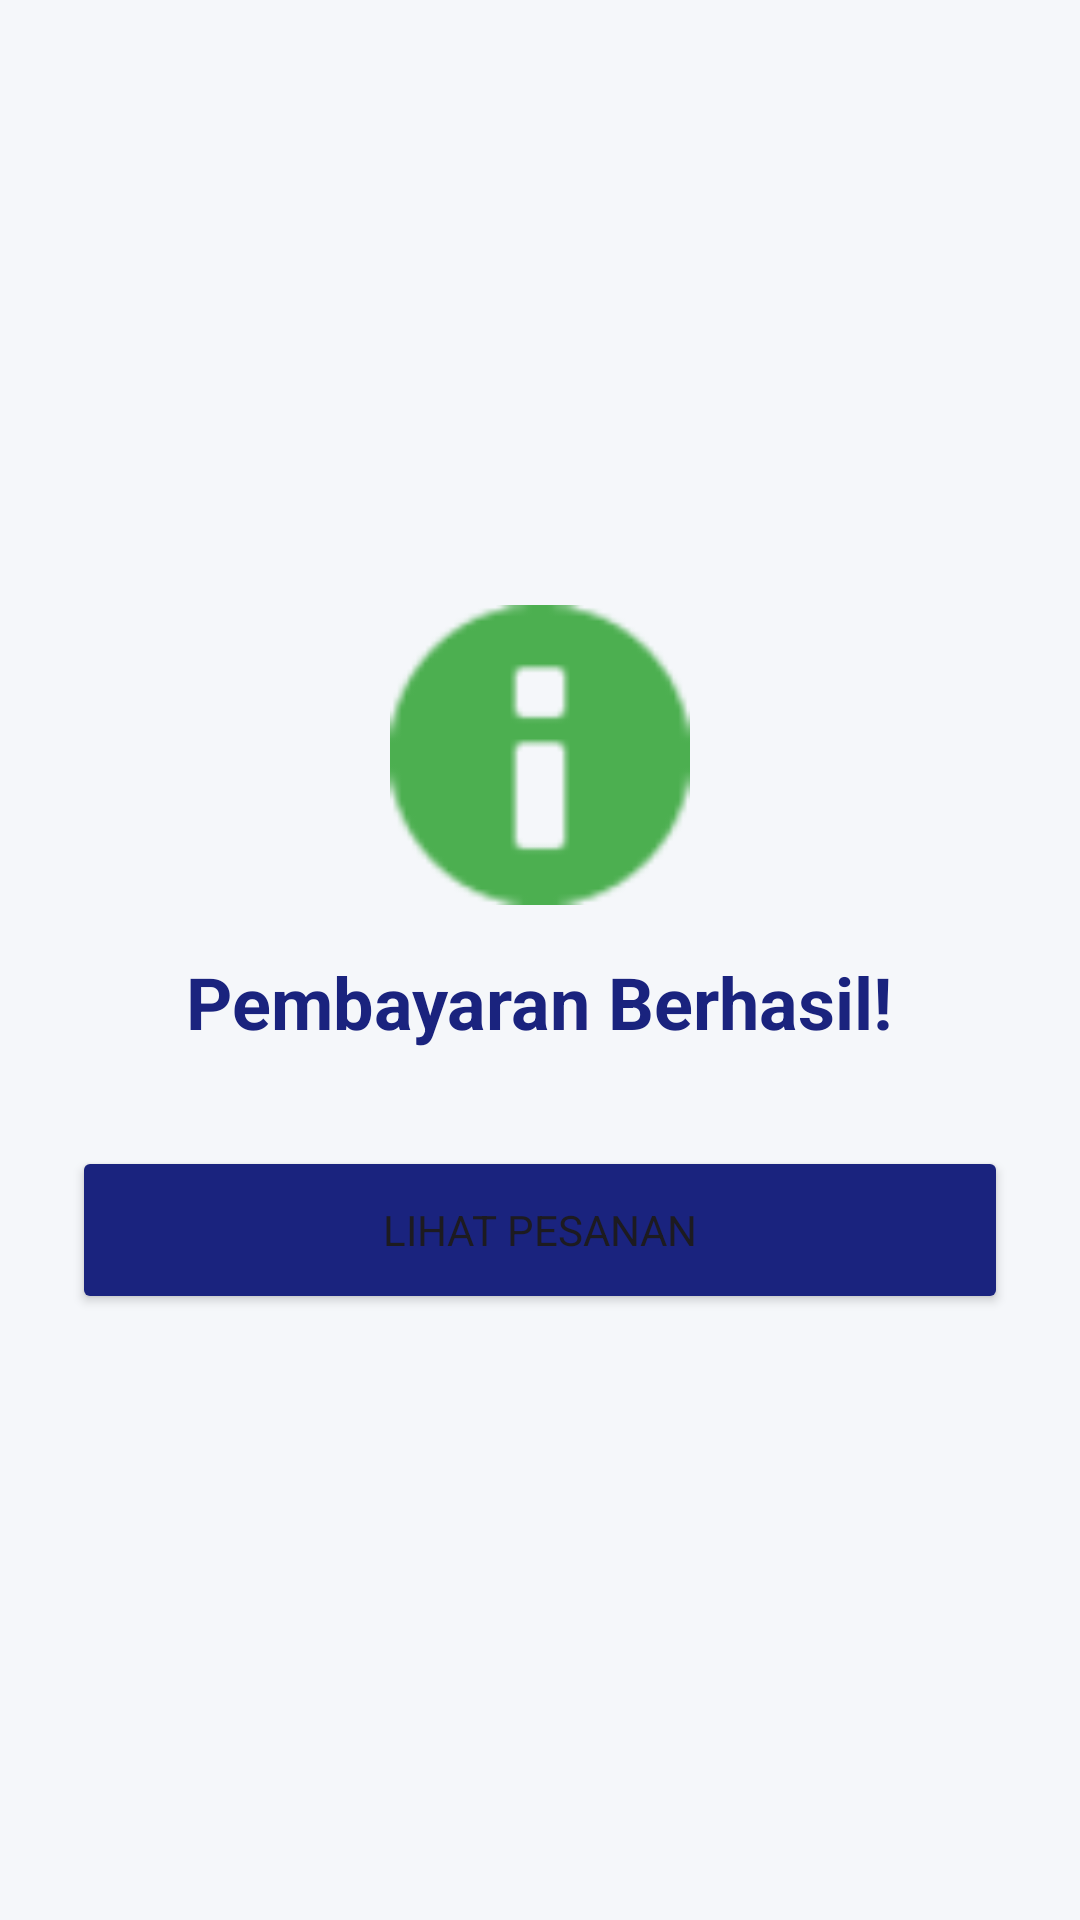

Named icons in this screenshot (1080 x 1920) and their centers, (x=x, y=y):
info: (x=540, y=755)
